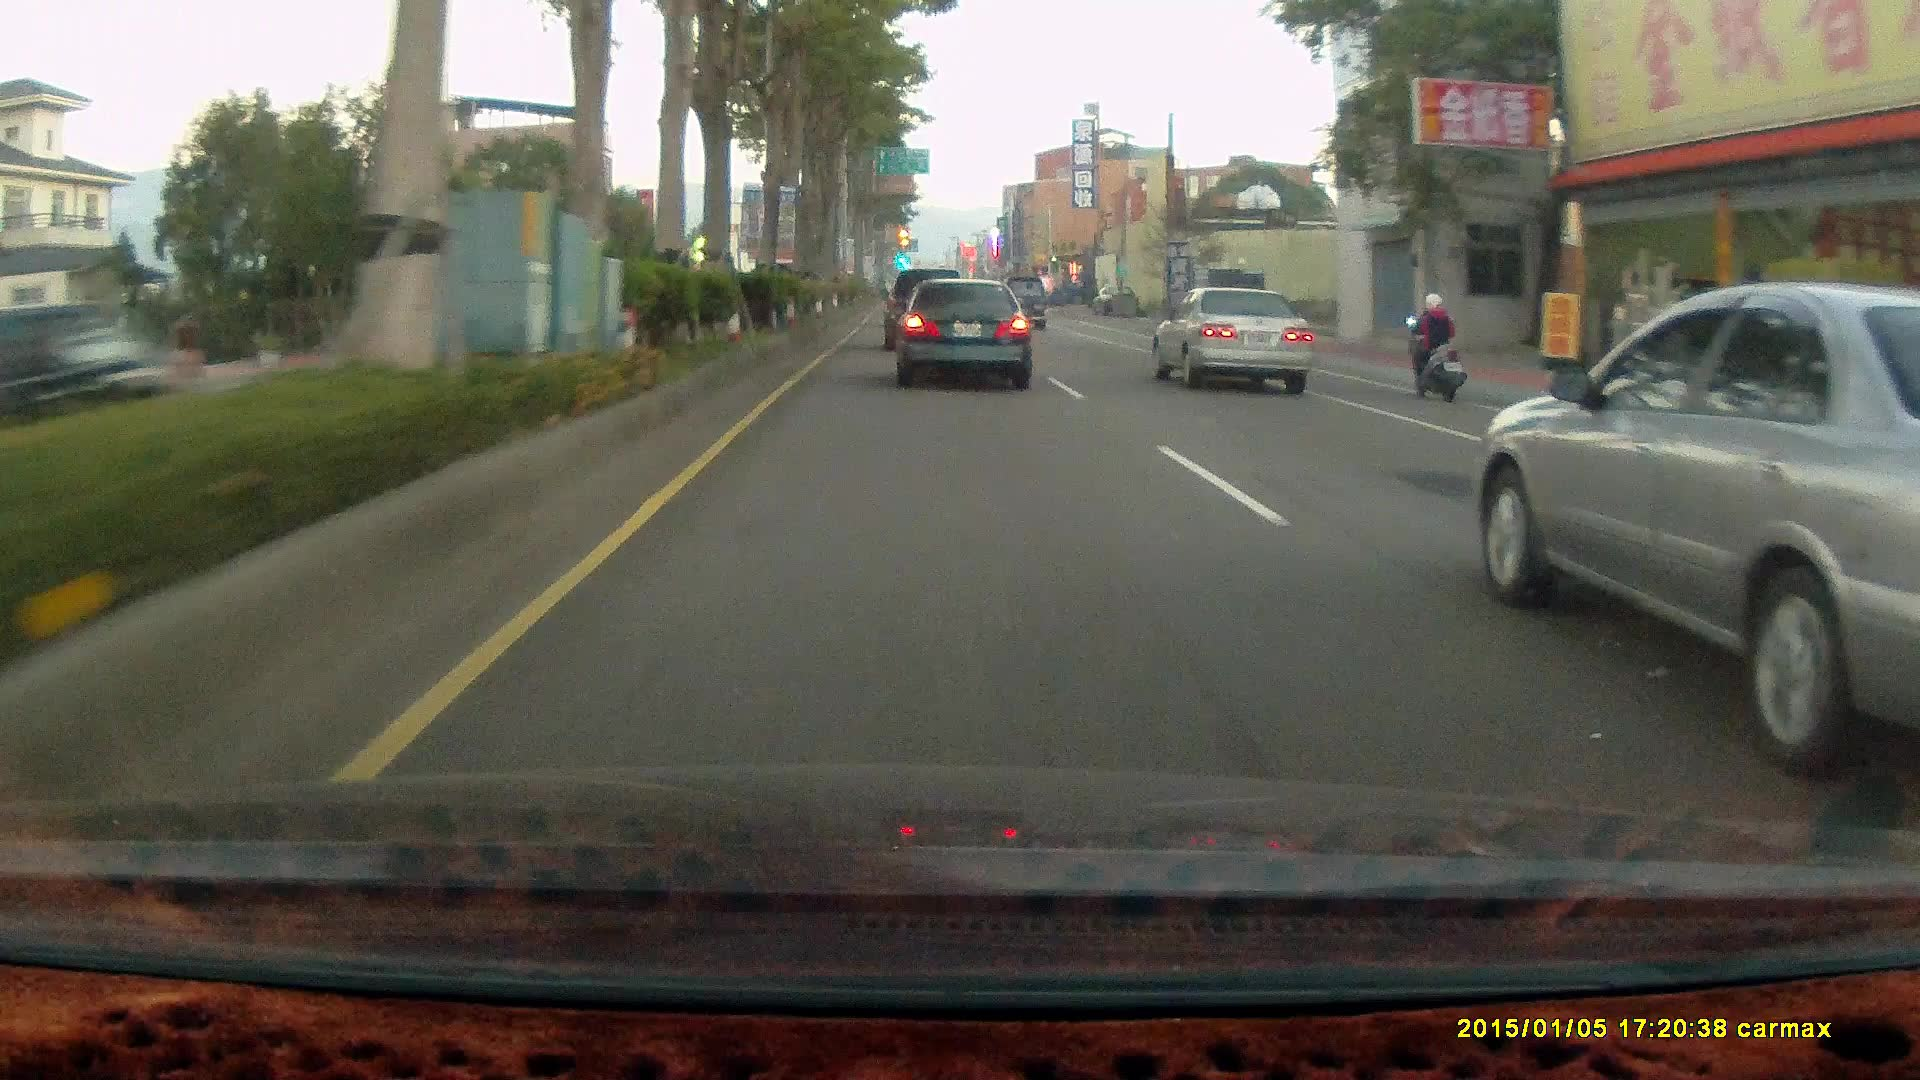rider: (1396, 285, 1475, 409), (1402, 286, 1467, 401)
vehicle: (1469, 281, 1920, 780), (1, 299, 168, 446), (1150, 285, 1312, 396), (1155, 291, 1313, 400), (895, 281, 1035, 398), (893, 288, 1033, 400), (884, 269, 973, 355), (883, 271, 965, 350), (1187, 278, 1266, 351), (1000, 279, 1047, 335)
